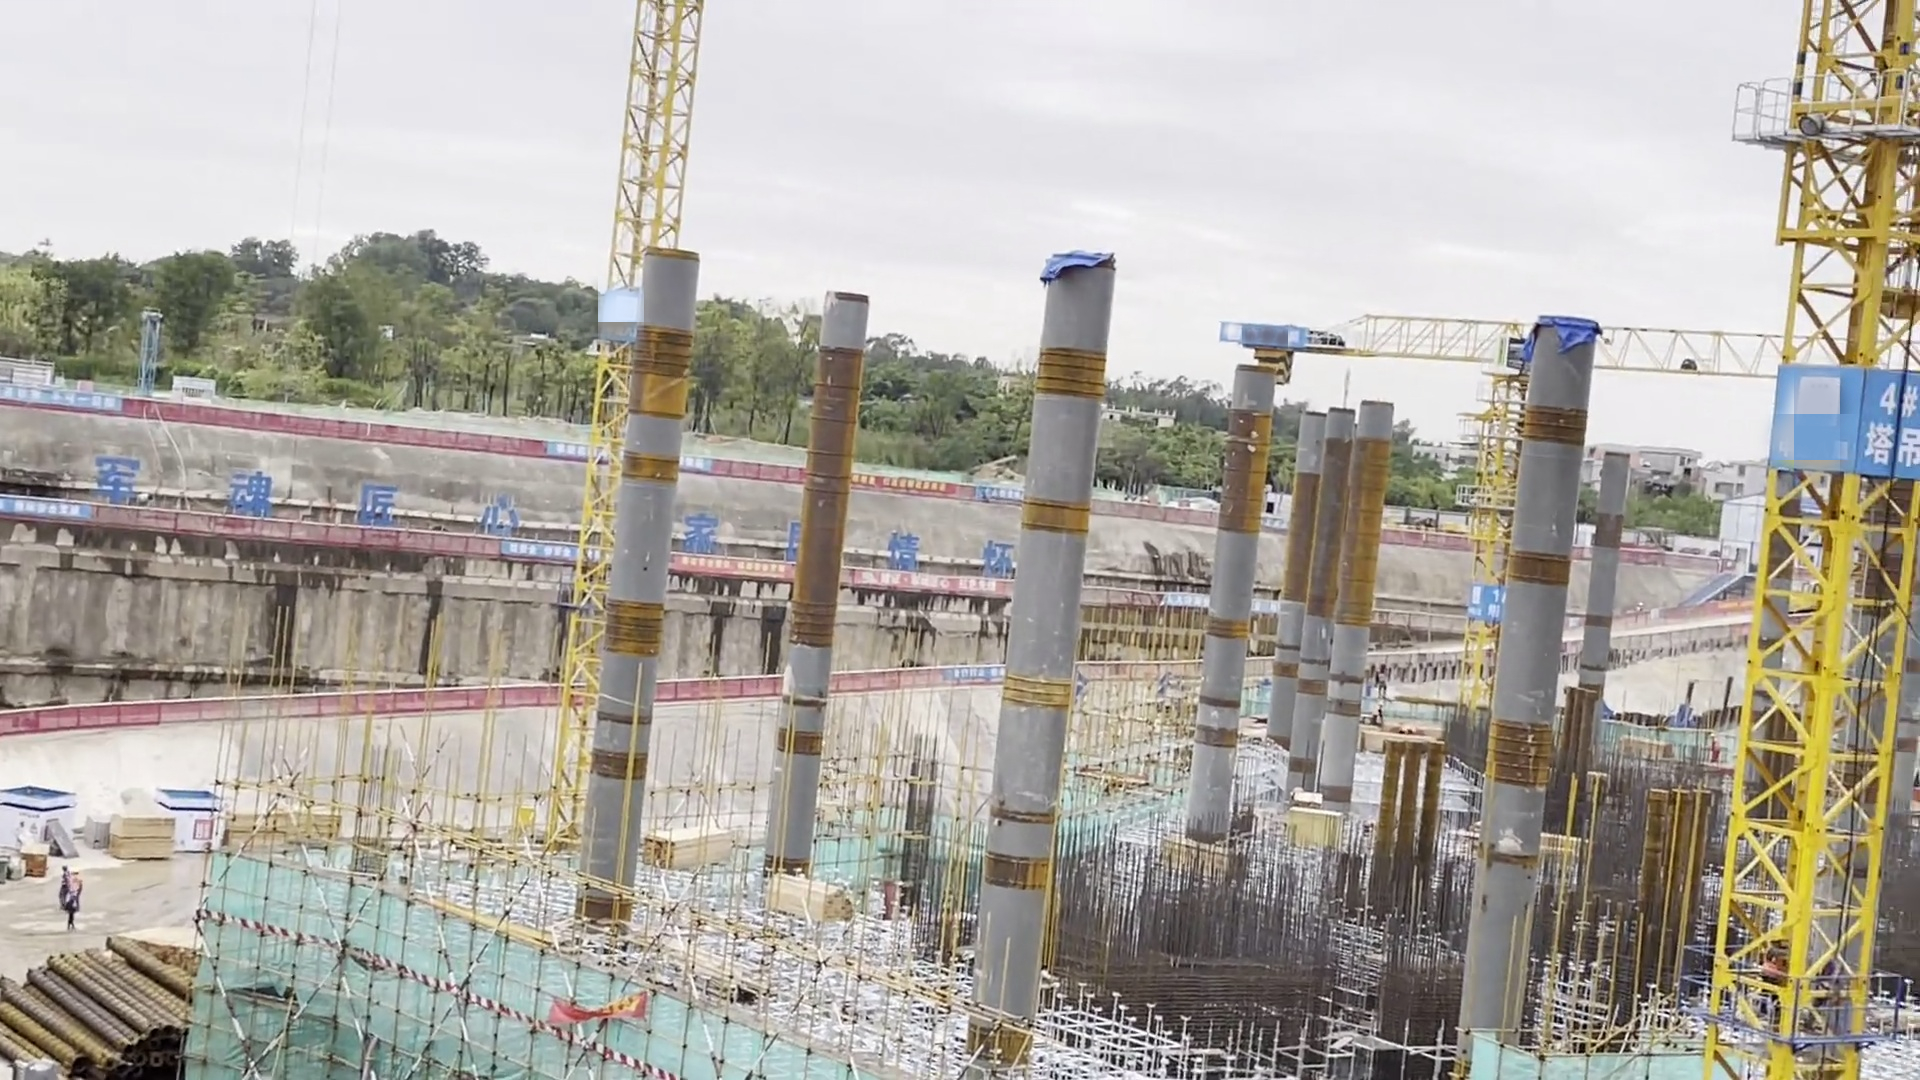fence: (107, 679, 585, 739), (169, 397, 485, 443), (1102, 497, 1226, 535)
helmet: (71, 869, 80, 874)
person: (69, 866, 85, 910), (59, 864, 70, 907)
slogan: (85, 453, 542, 533), (676, 515, 1028, 576), (549, 441, 718, 481), (1866, 377, 1920, 468), (854, 572, 1002, 599), (1, 387, 120, 414), (852, 473, 962, 502), (1167, 592, 1293, 616), (503, 539, 605, 567), (1, 495, 86, 523), (983, 487, 1029, 507)
vest: (71, 877, 81, 894), (62, 872, 70, 889)
wood: (640, 821, 738, 876), (237, 807, 350, 849), (763, 880, 859, 923), (106, 812, 177, 867)
